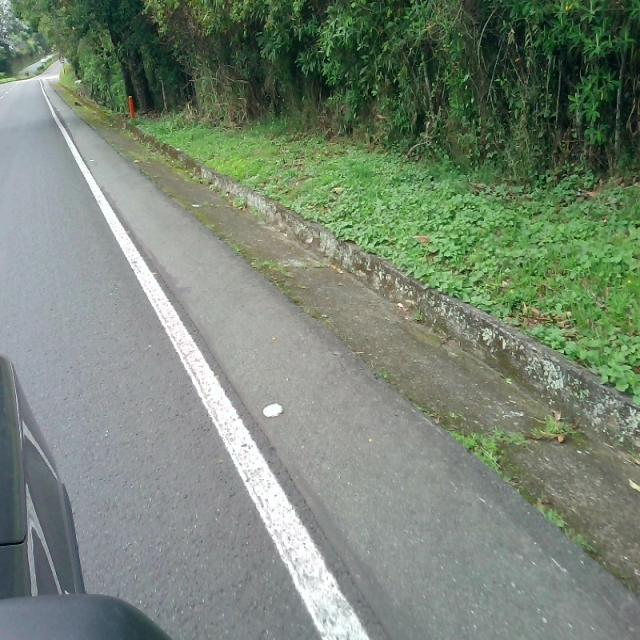DITCH: (39, 58, 638, 636)
